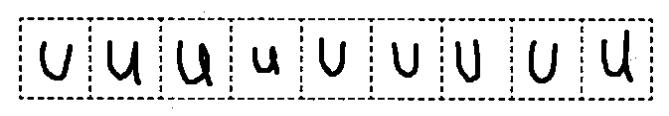U: (594, 26, 639, 87), (168, 38, 219, 90), (100, 35, 148, 88), (30, 36, 80, 84), (312, 31, 356, 82), (520, 37, 564, 86), (451, 36, 494, 86), (386, 36, 428, 80), (247, 40, 289, 80)
